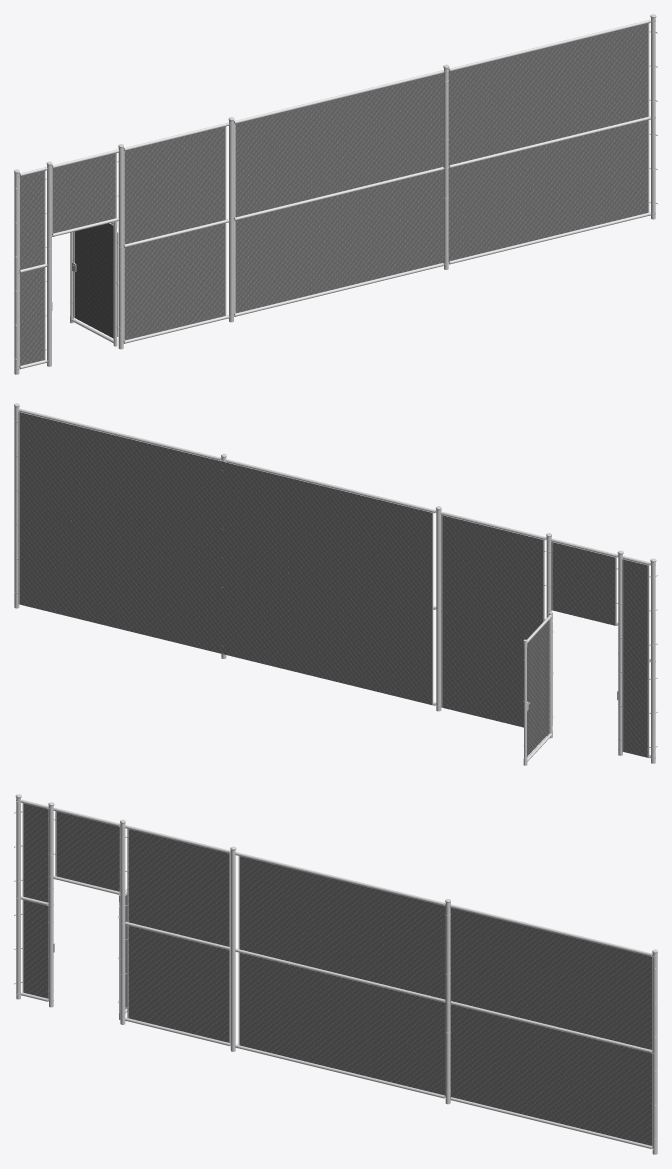
Rendered from courtOutside2.fbx.
3 views of the same model, one above another, from view 1: azimuth 30°, elevation 25°; view 2: azimuth 150°, elevation 25°; view 3: azimuth 330°, elevation 25° (orthographic).
Visible parts, largest first — view 1: Fence_Front, Fence_Front_Door; view 2: Fence_Front, Fence_Front_Door; view 3: Fence_Front, Fence_Front_Door.
Part boxes in pixels (<box>): Fence_Front: <box>14,14,657,374</box>; Fence_Front_Door: <box>70,221,118,346</box>; Fence_Front: <box>14,403,657,763</box>; Fence_Front_Door: <box>523,612,553,765</box>; Fence_Front: <box>14,794,657,1154</box>; Fence_Front_Door: <box>118,889,127,1019</box>.
Bounding box in the file's own units: 1287 × 390 × 138.
